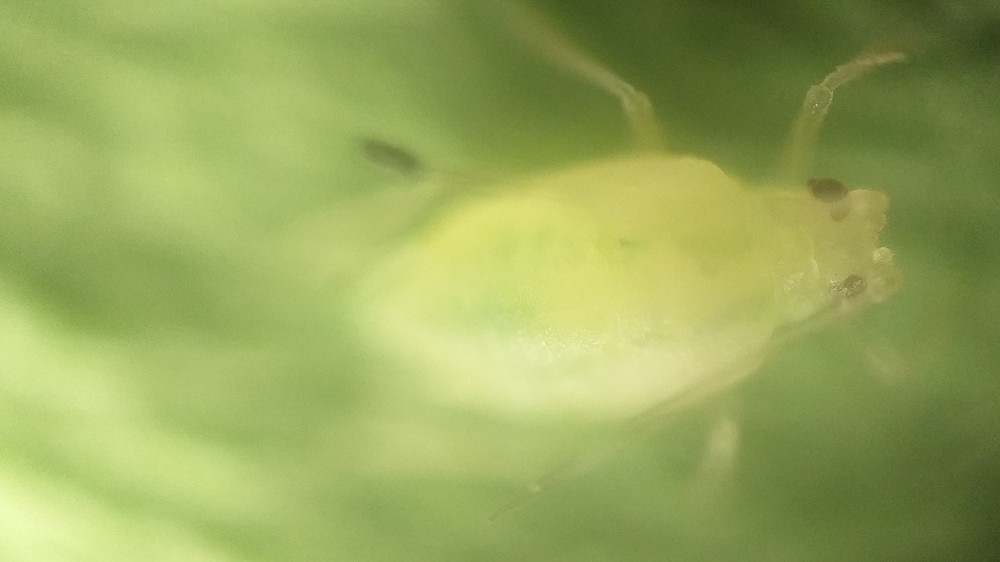Pulgon: (290, 23, 977, 525)
